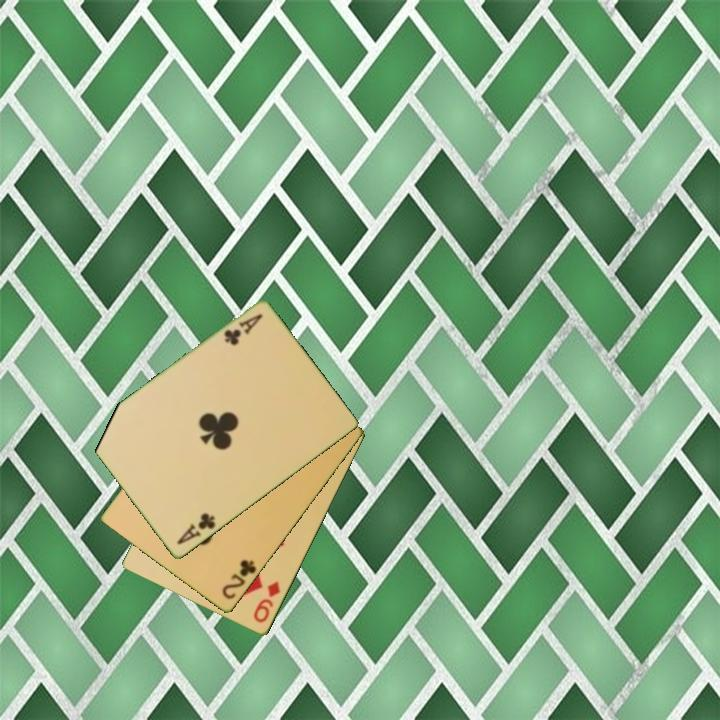2c: (219, 556, 259, 603)
9d: (250, 578, 283, 626)
Ac: (220, 311, 266, 349), (173, 510, 218, 548)
